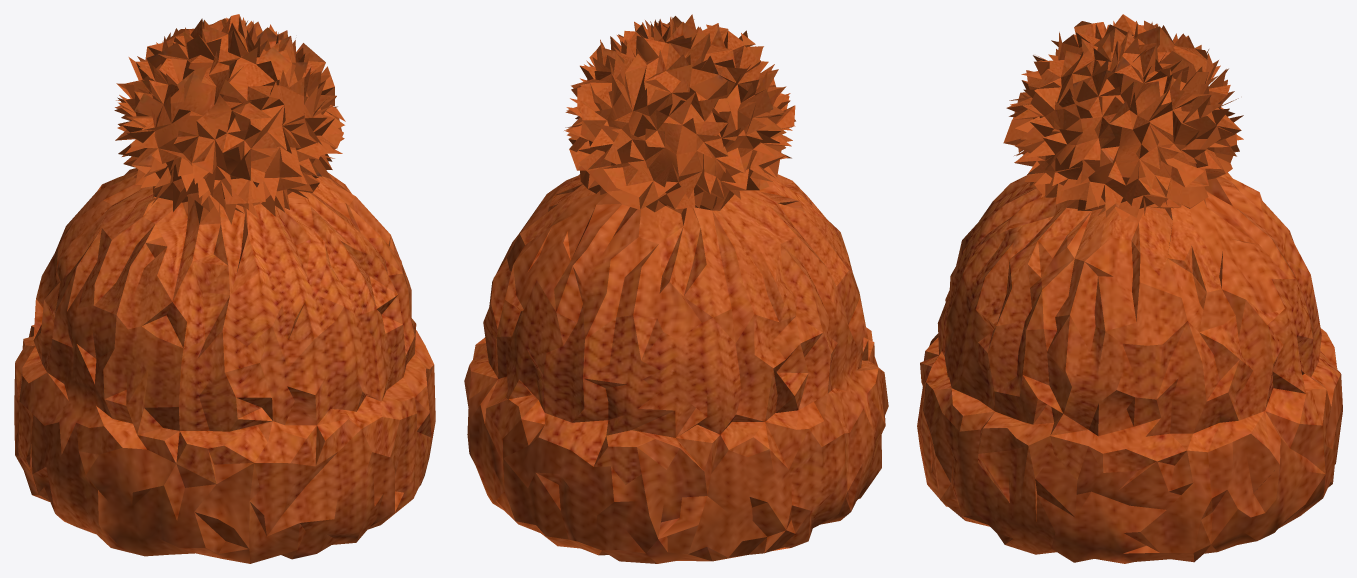
The model's file is beanie.glb.
3 views of the same model, side by side, from view 1: azimuth 30°, elevation 25°; view 2: azimuth 150°, elevation 25°; view 3: azimuth 270°, elevation 25° (orthographic).
Parts seen in each view (by area): view 1: Mesh_0; view 2: Mesh_0; view 3: Mesh_0.
Boxes of the visible parts, <box> form: Mesh_0: <box>14,14,435,563</box>; Mesh_0: <box>464,14,888,563</box>; Mesh_0: <box>917,14,1342,563</box>.
Bounding box in the file's own units: 0.2 × 0.2443 × 0.2028.
1 material, 1 textured.
